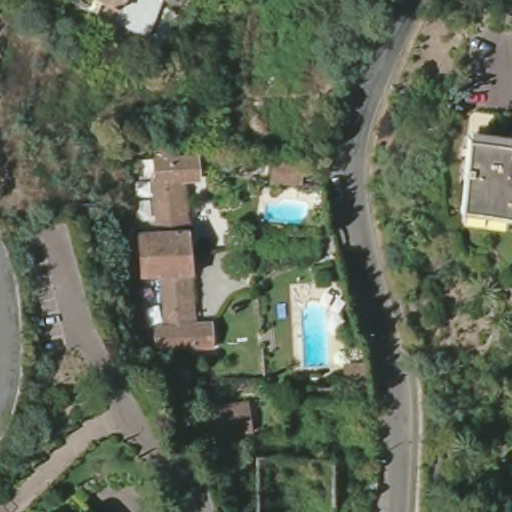pool: (295, 297, 335, 369), (264, 198, 312, 227)
